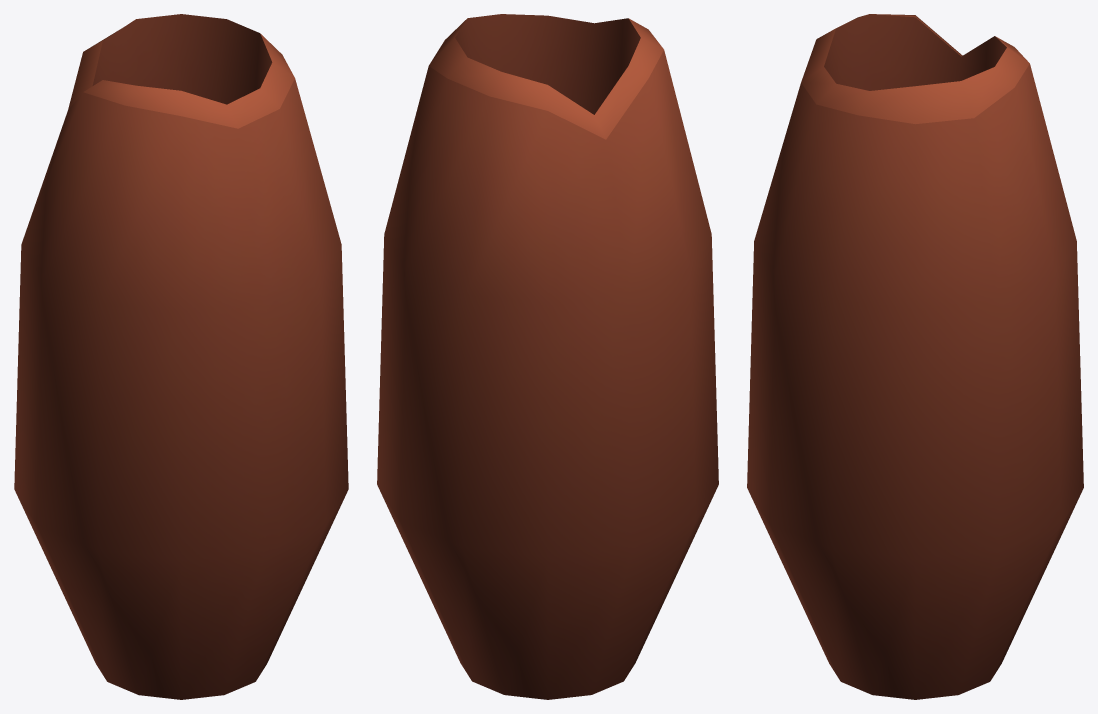
The model's file is Clay_Cup_1B.fbx.
3 views of the same model, side by side, from view 1: azimuth 30°, elevation 25°; view 2: azimuth 150°, elevation 25°; view 3: azimuth 270°, elevation 25° (orthographic). The views are drawn at different scales.
Parts seen in each view (by area): view 1: Clay_Cup_1B; view 2: Clay_Cup_1B; view 3: Clay_Cup_1B.
Boxes of the visible parts, x1,y1,x2,y2 form: Clay_Cup_1B: (14,14,348,699); Clay_Cup_1B: (377,14,718,699); Clay_Cup_1B: (747,14,1083,699).
Size of the model in its own units: 14.42 by 29.1 by 14.42.
